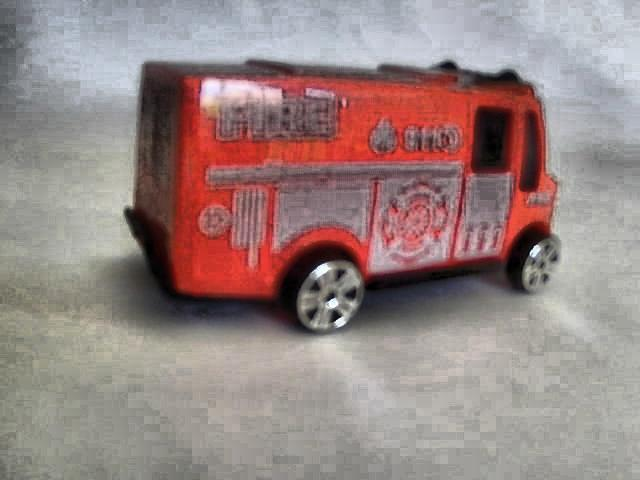fire_truck: (125, 58, 563, 333)
